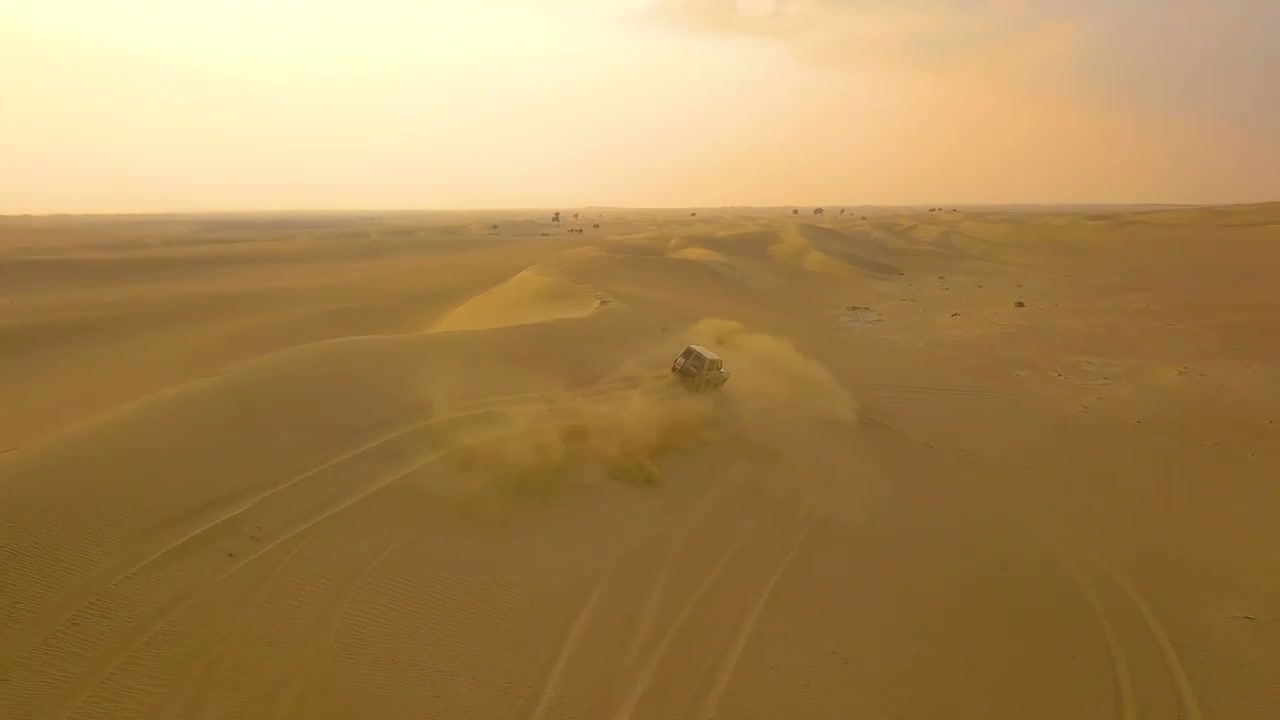vehicle_track: (0, 393, 550, 676), (0, 393, 547, 676), (0, 421, 429, 675), (45, 452, 444, 718), (945, 482, 1201, 719), (951, 483, 1202, 719), (613, 494, 773, 719), (1035, 532, 1201, 719), (1038, 534, 1202, 719), (612, 517, 756, 719), (693, 496, 820, 719), (153, 538, 308, 719), (276, 532, 408, 716), (623, 482, 733, 672), (623, 483, 725, 667), (1107, 567, 1202, 719), (528, 563, 613, 719), (1059, 555, 1138, 719), (857, 406, 935, 449), (854, 383, 1053, 399), (530, 251, 625, 275), (0, 446, 17, 454)
